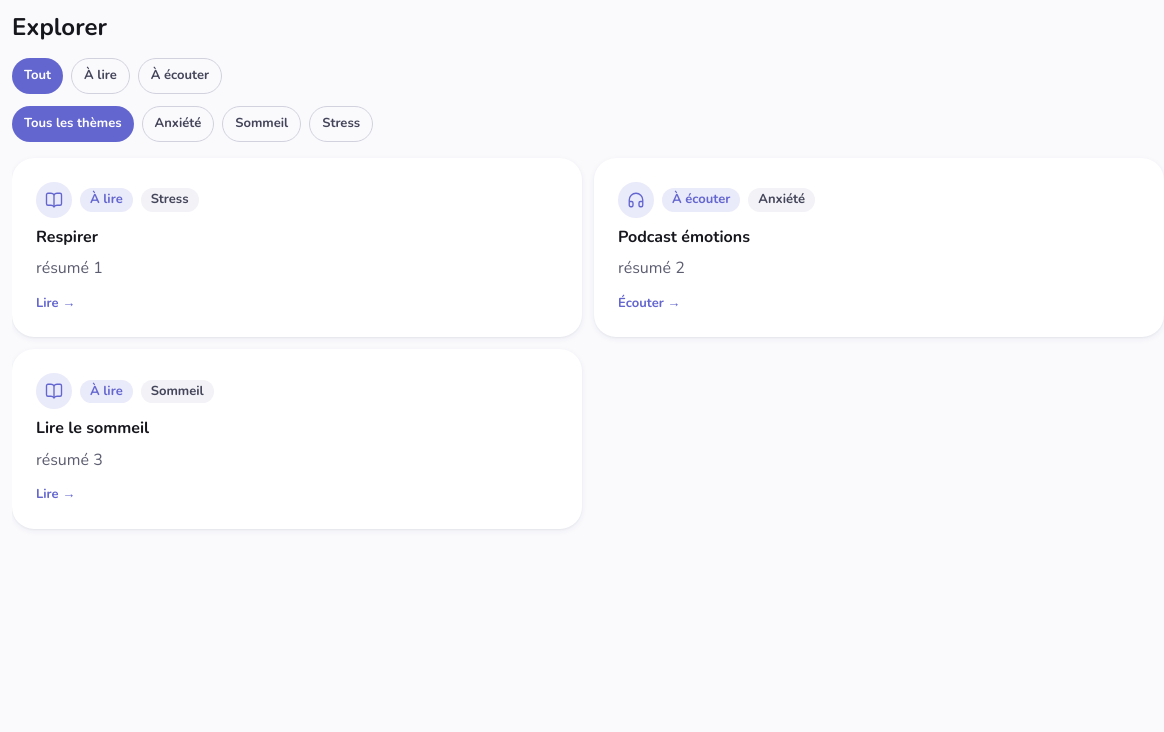
Test case: ResourceCatalog - filtres › affiche l'état « aucun résultat » quand rien ne matche
sommeil + podcast → aucune ressource.
Click the button "Sommeil" at x=262, y=124, box [222,106,301,142]
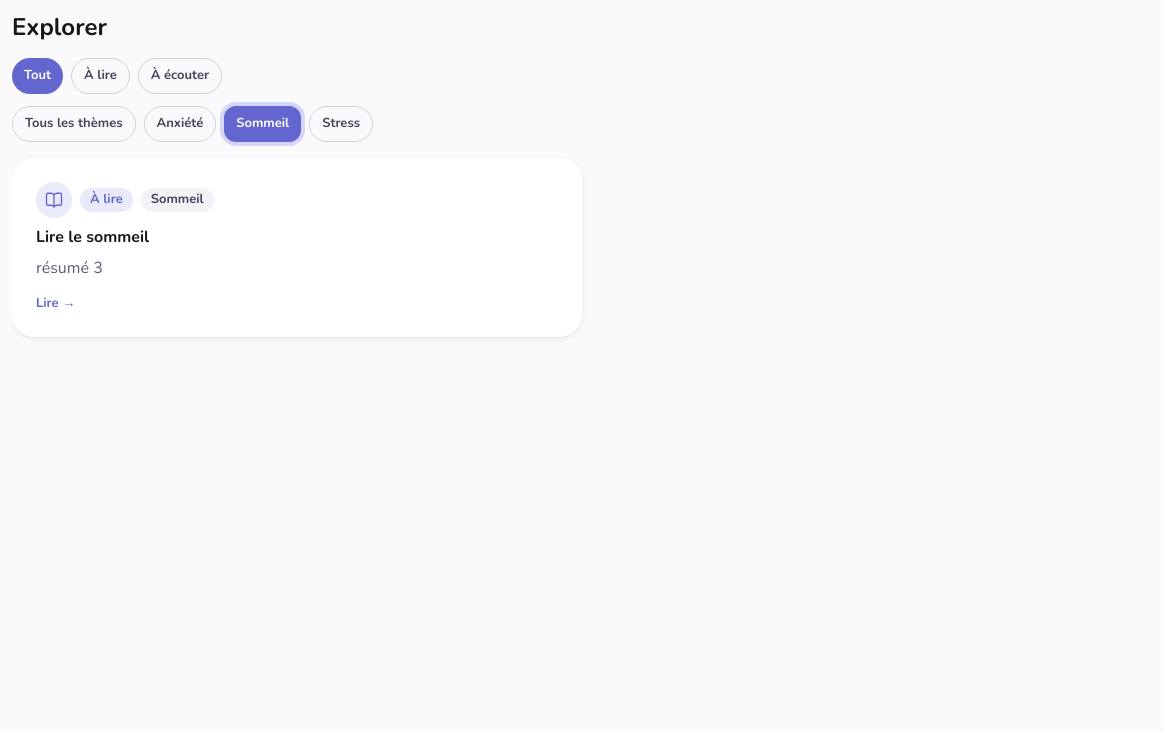
Click the button "À écouter" at x=180, y=76, box [138,58,222,94]
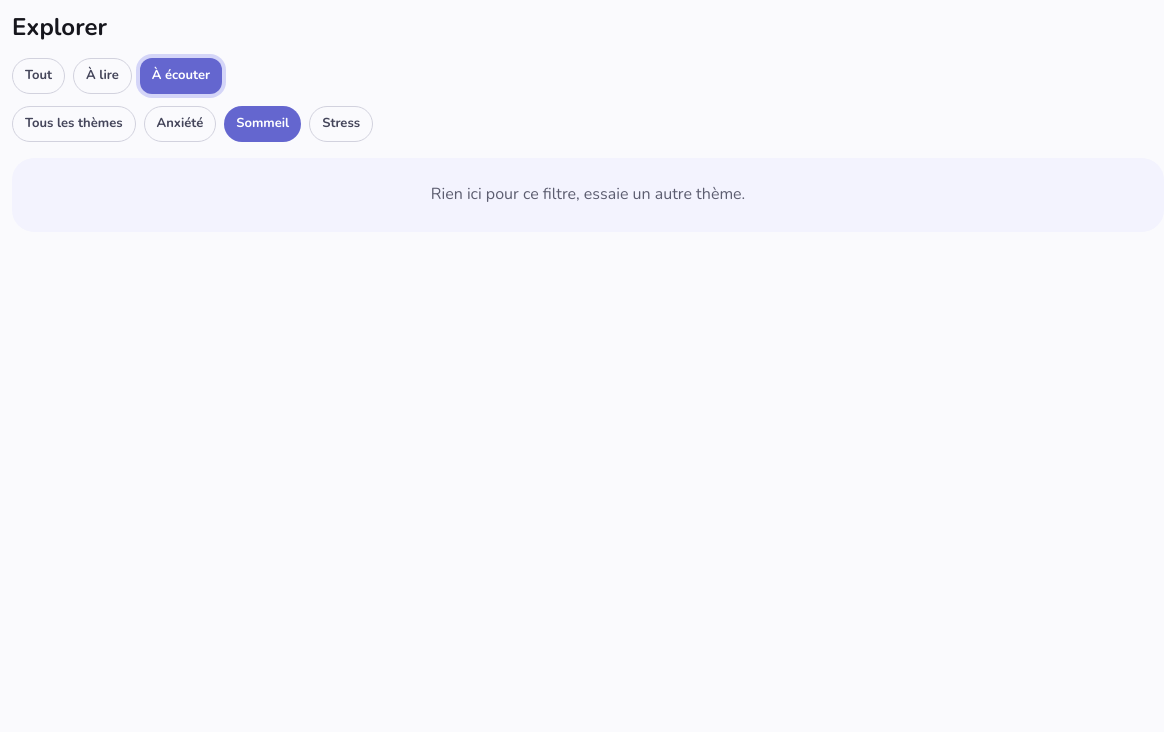
Expected: the text "Rien ici pour ce filtre, essaie un autre thème." is shown, [12,158,1163,232]
